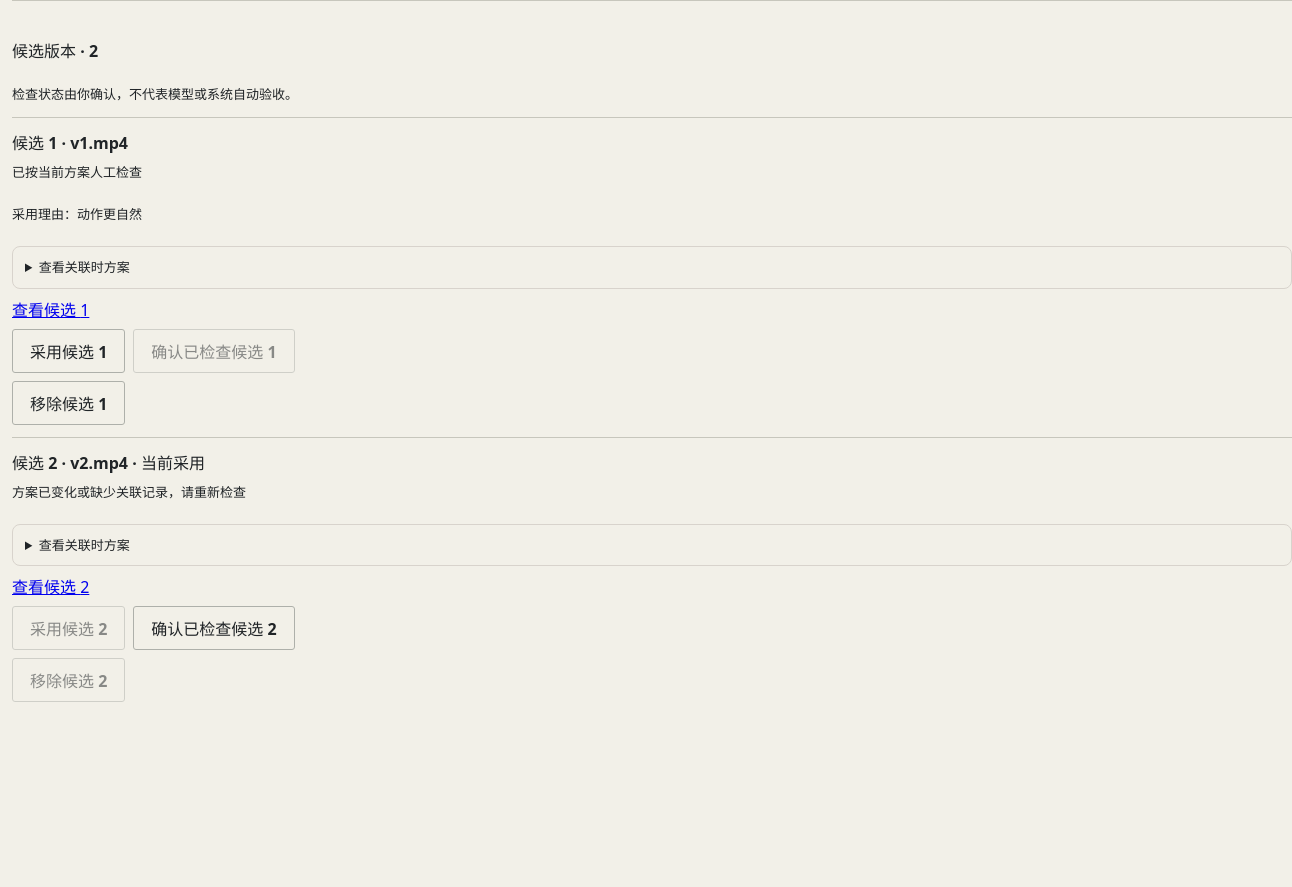
Test case: 采用理由独立于外部制作备注保存，历史候选仍可查看
Check: the text "采用理由：动作更自然" is shown, box [12,205,142,223]
Click the heading "查看关联时方案" below "v1.mp4" at (84, 267), box [39,258,130,276]
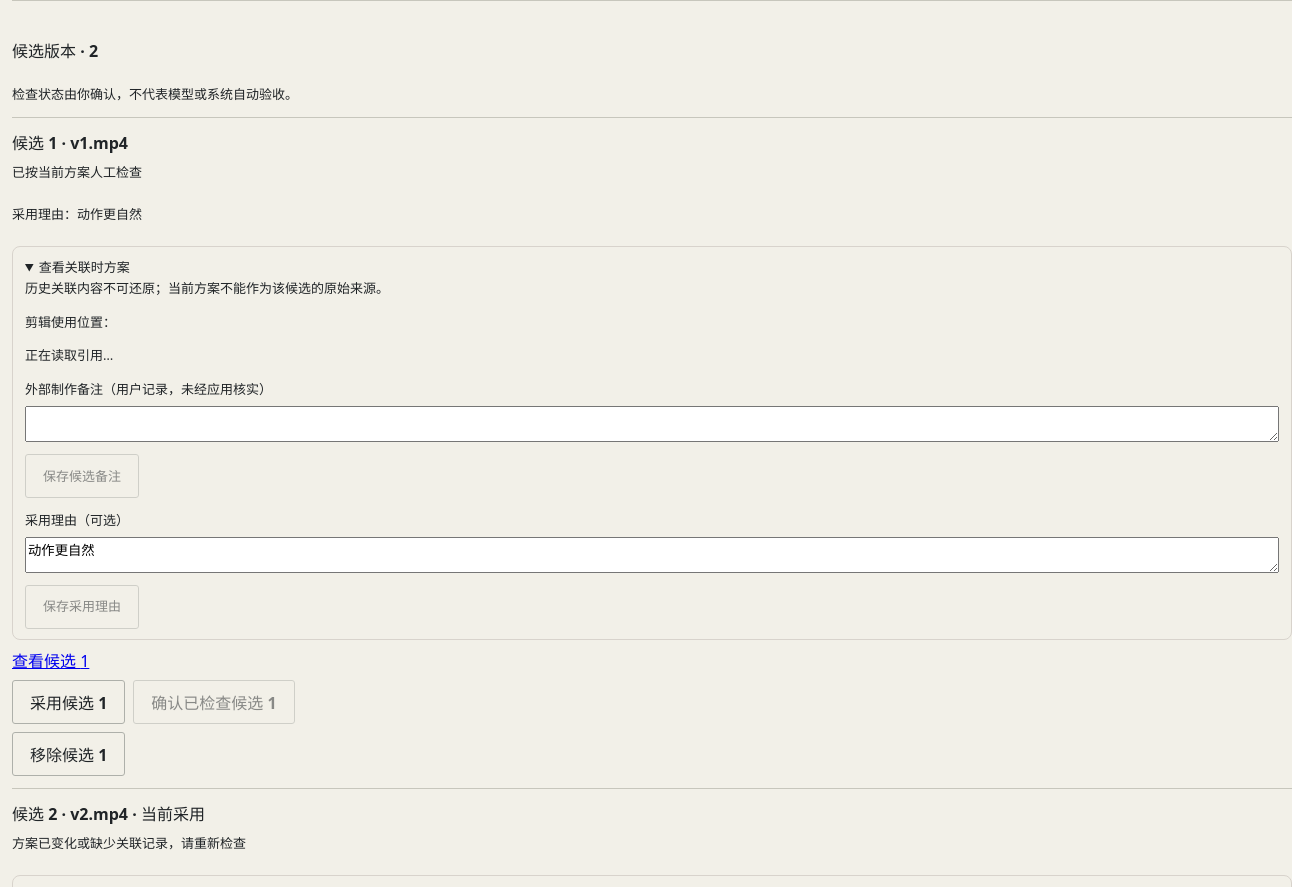
Replace the text in the text box labelled "采用理由（可选）" with "构图更稳定" at (652, 555), box [25,537,1279,573]
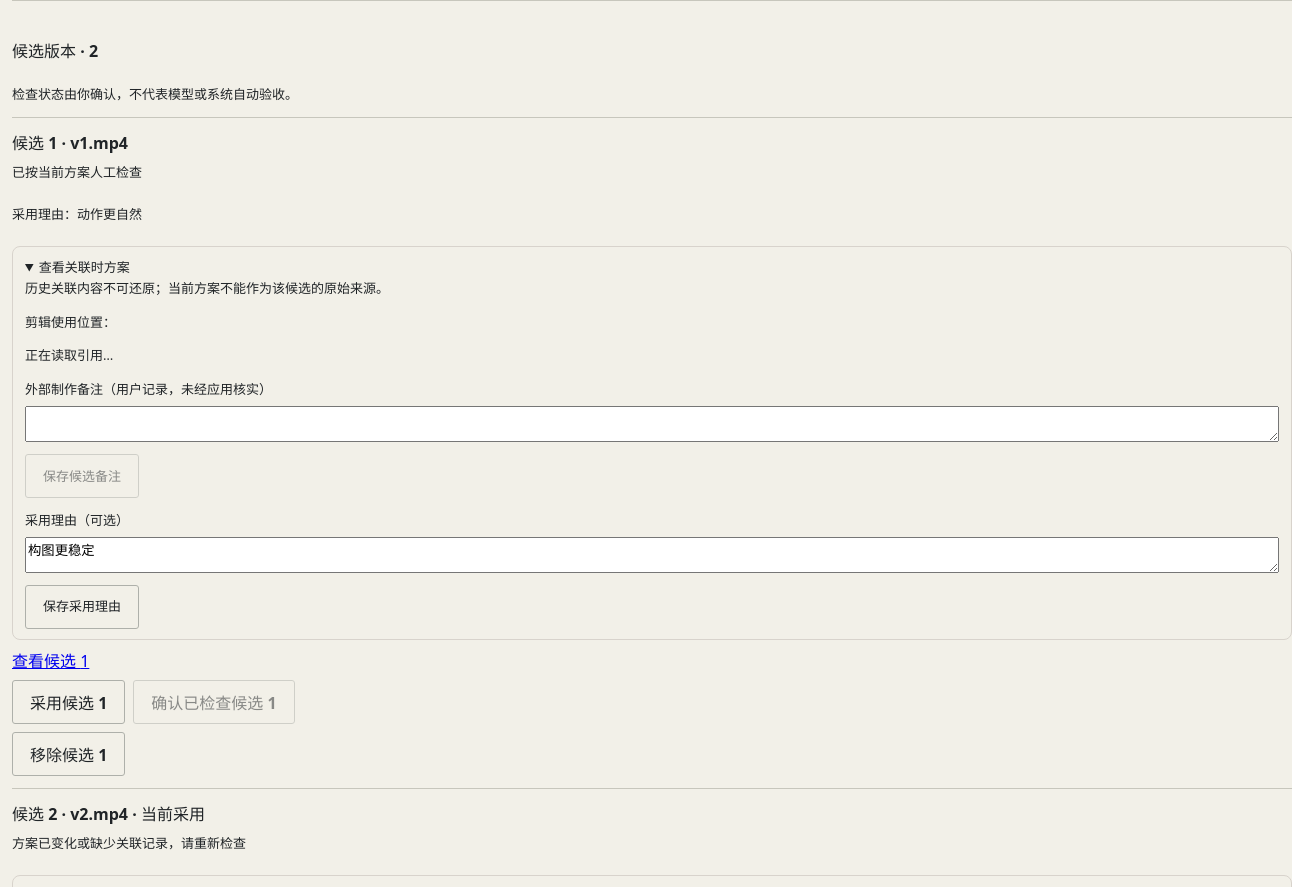
Click the button "保存采用理由" at (82, 607), box [25,585,139,629]
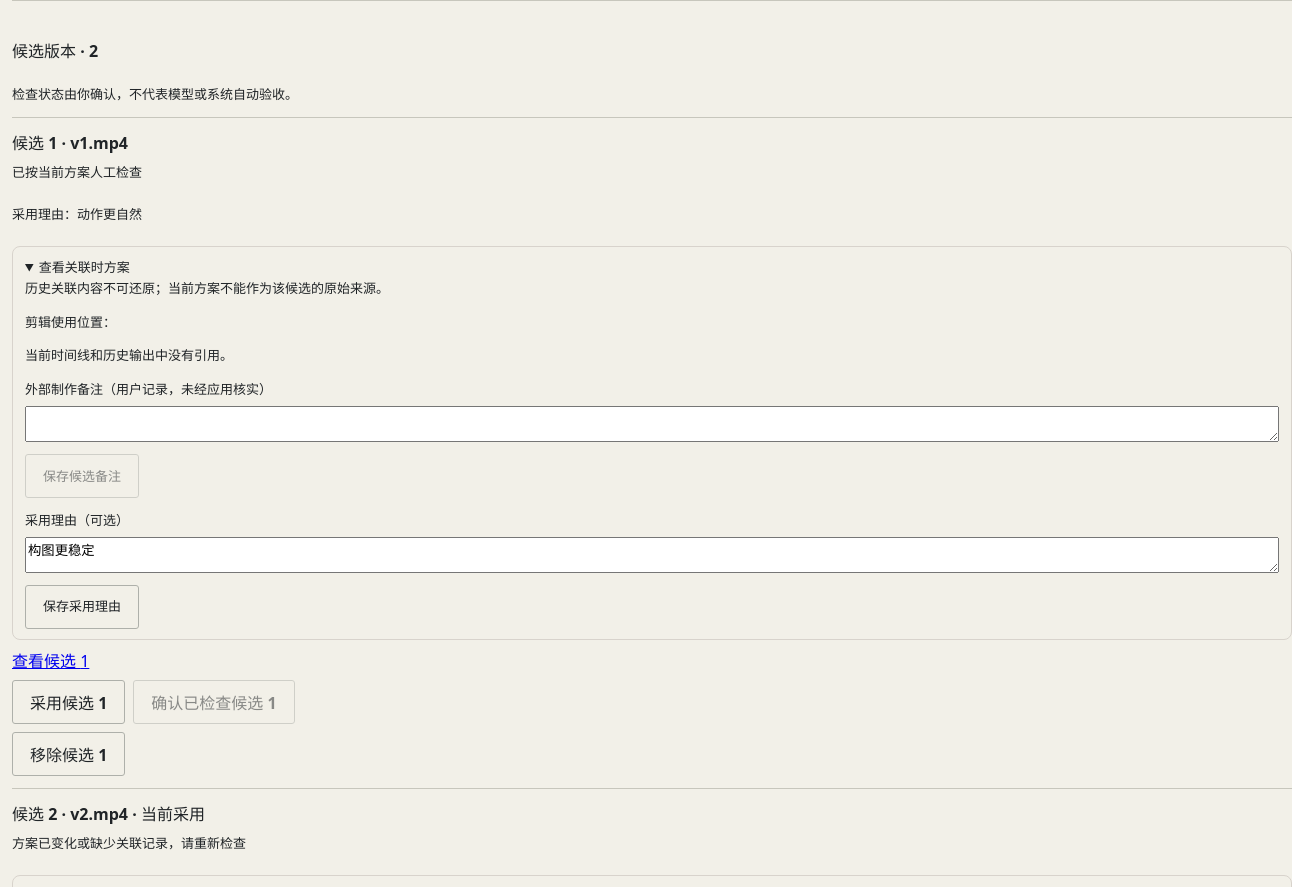
Check: the text "当前时间线和历史输出中没有引用。" is shown, box [25,346,233,364]
